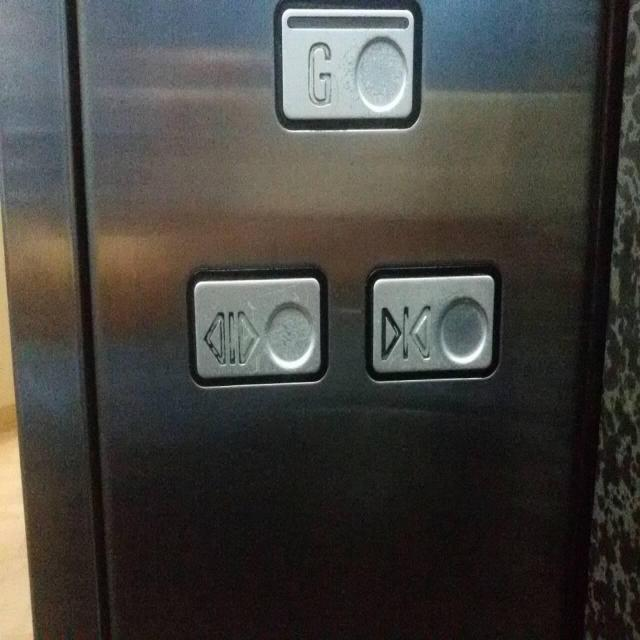G: (271, 0, 422, 135)
close: (363, 263, 501, 383)
open: (185, 264, 327, 392)
